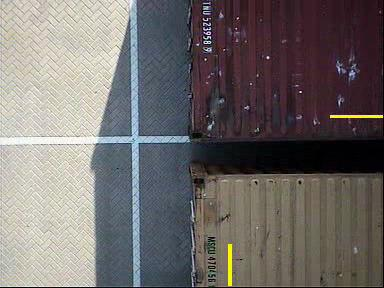groundmarker_2: (115, 173, 174, 206), (115, 50, 174, 82)
